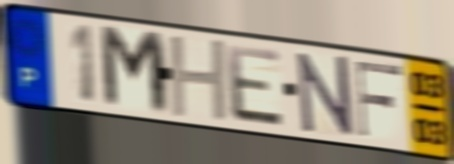1: (68, 21, 96, 107)
E: (224, 41, 287, 130)
F: (353, 59, 405, 141)
H: (166, 34, 233, 123)
M: (97, 22, 173, 120)
N: (294, 51, 357, 139)
